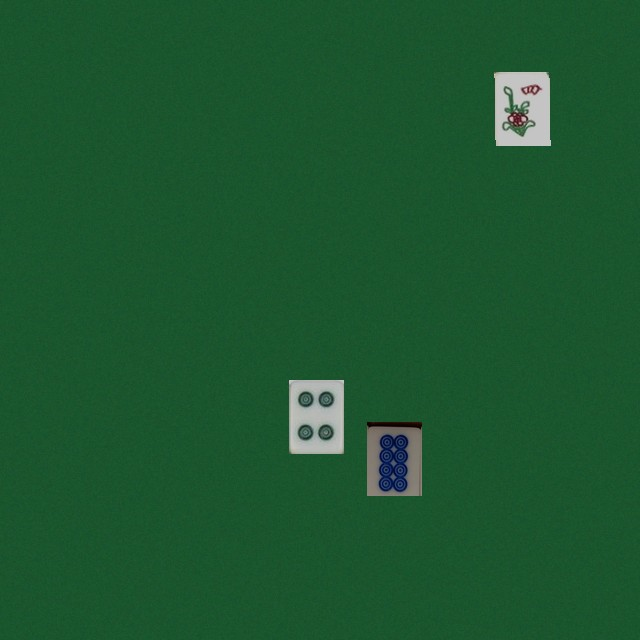tile: (494, 71, 549, 145), (288, 379, 343, 453), (366, 421, 421, 495)
